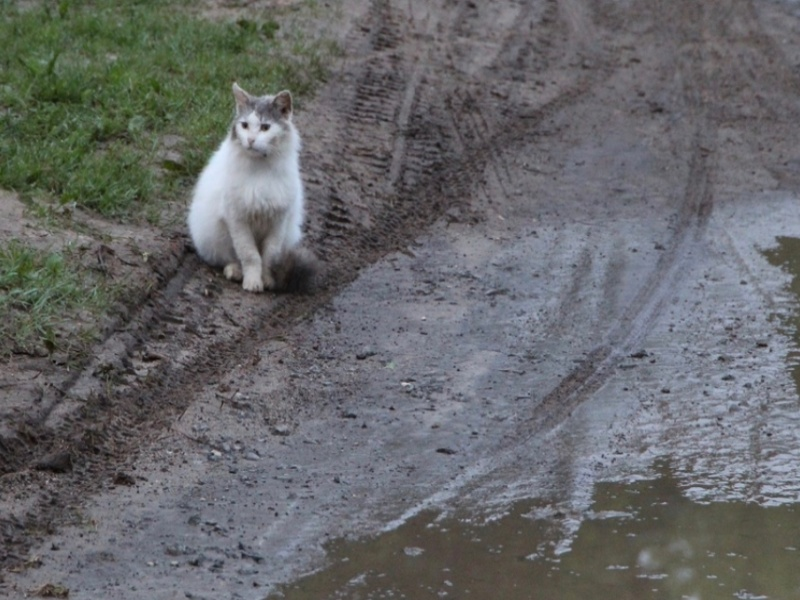cat: (184, 81, 320, 294)
